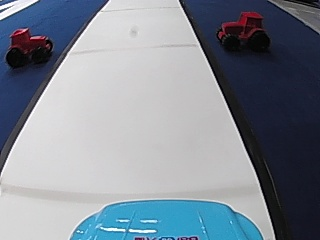tractor: (213, 9, 270, 53), (5, 25, 52, 67)
